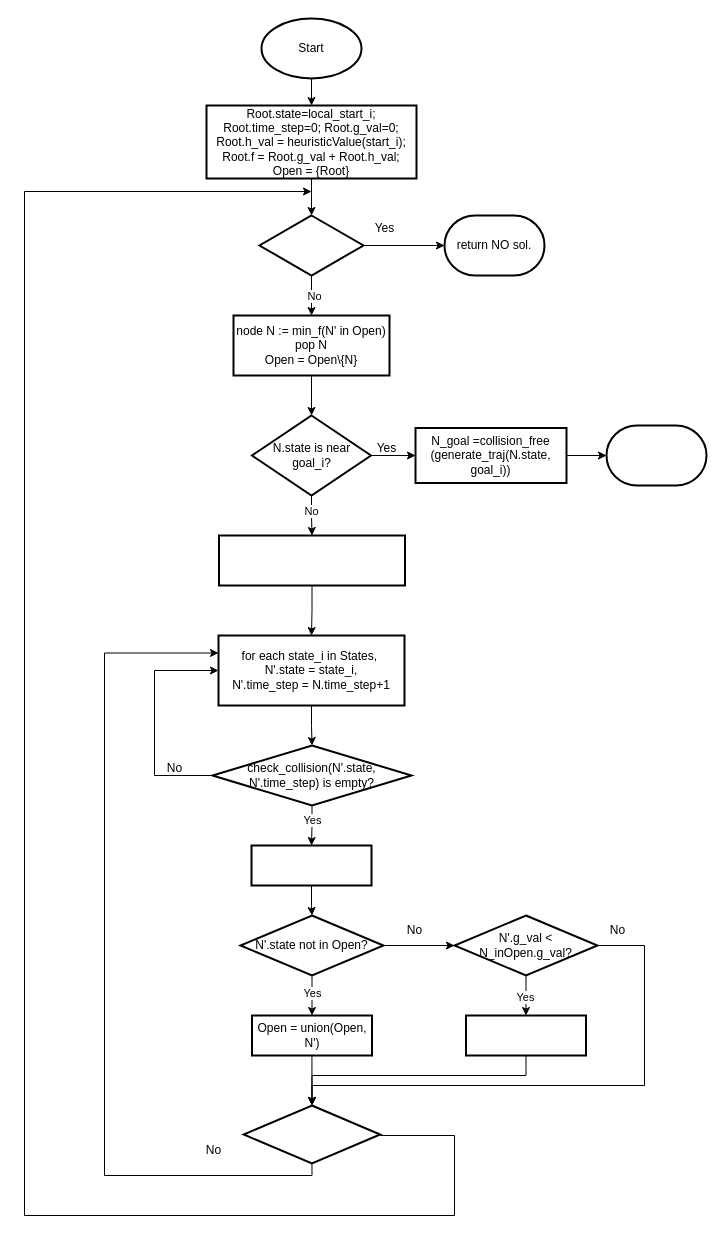
Image size: 725x1241. Some labels were removed from this diagram. The shapes that lost their labels are listed below. From the top down, each one's centre as x and y in pixels, then its label:
pixel 311 245: Open is empty?
pixel 656 455: return sol. path[i]
pixel 312 560: States = generate_states(N.state)
pixel 311 865: update: N'.state, N'.g_val, N'.h_val, N'.f_val
pixel 525 1035: update: N'.g_val, N'.f_val
pixel 311 1134: each state in States are checked?
